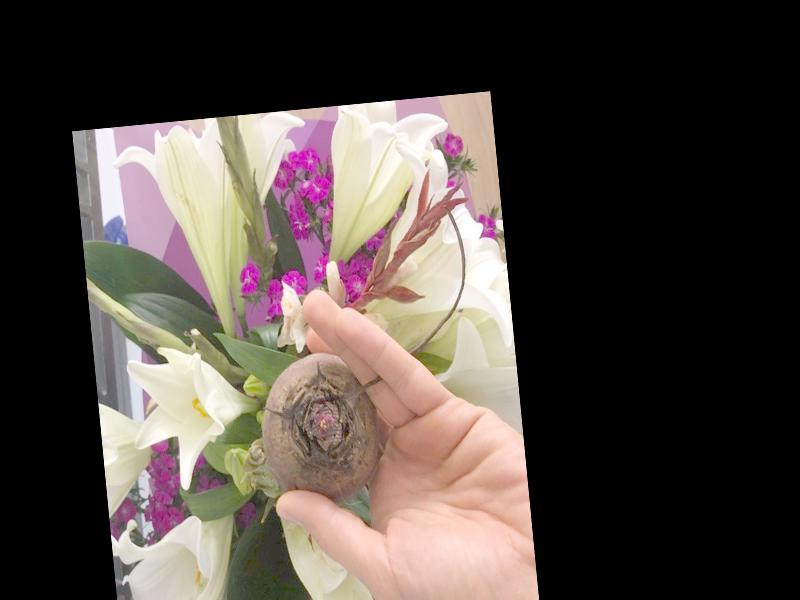Beet: (254, 345, 389, 506)
